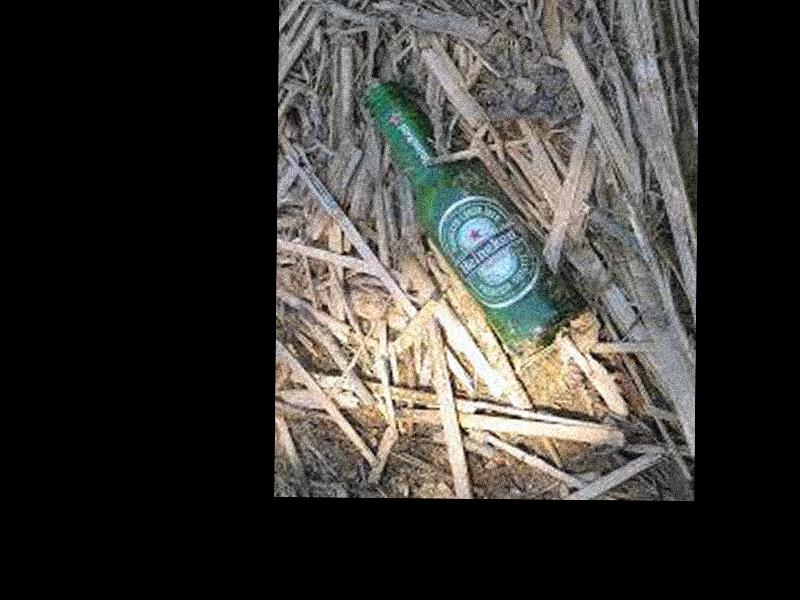Beer: (364, 78, 586, 356)
